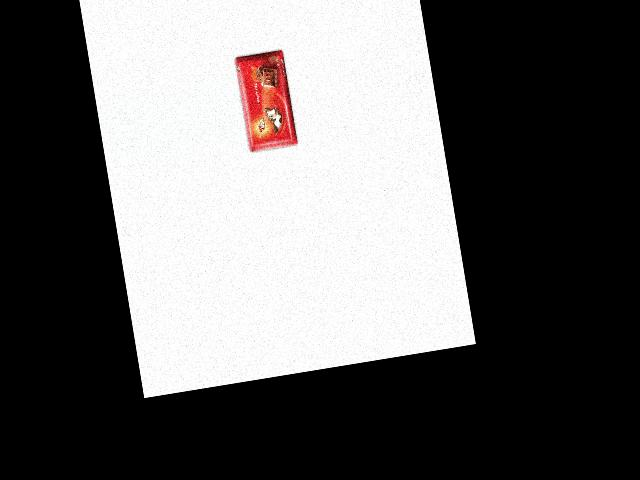chocolate: (234, 47, 302, 157)
